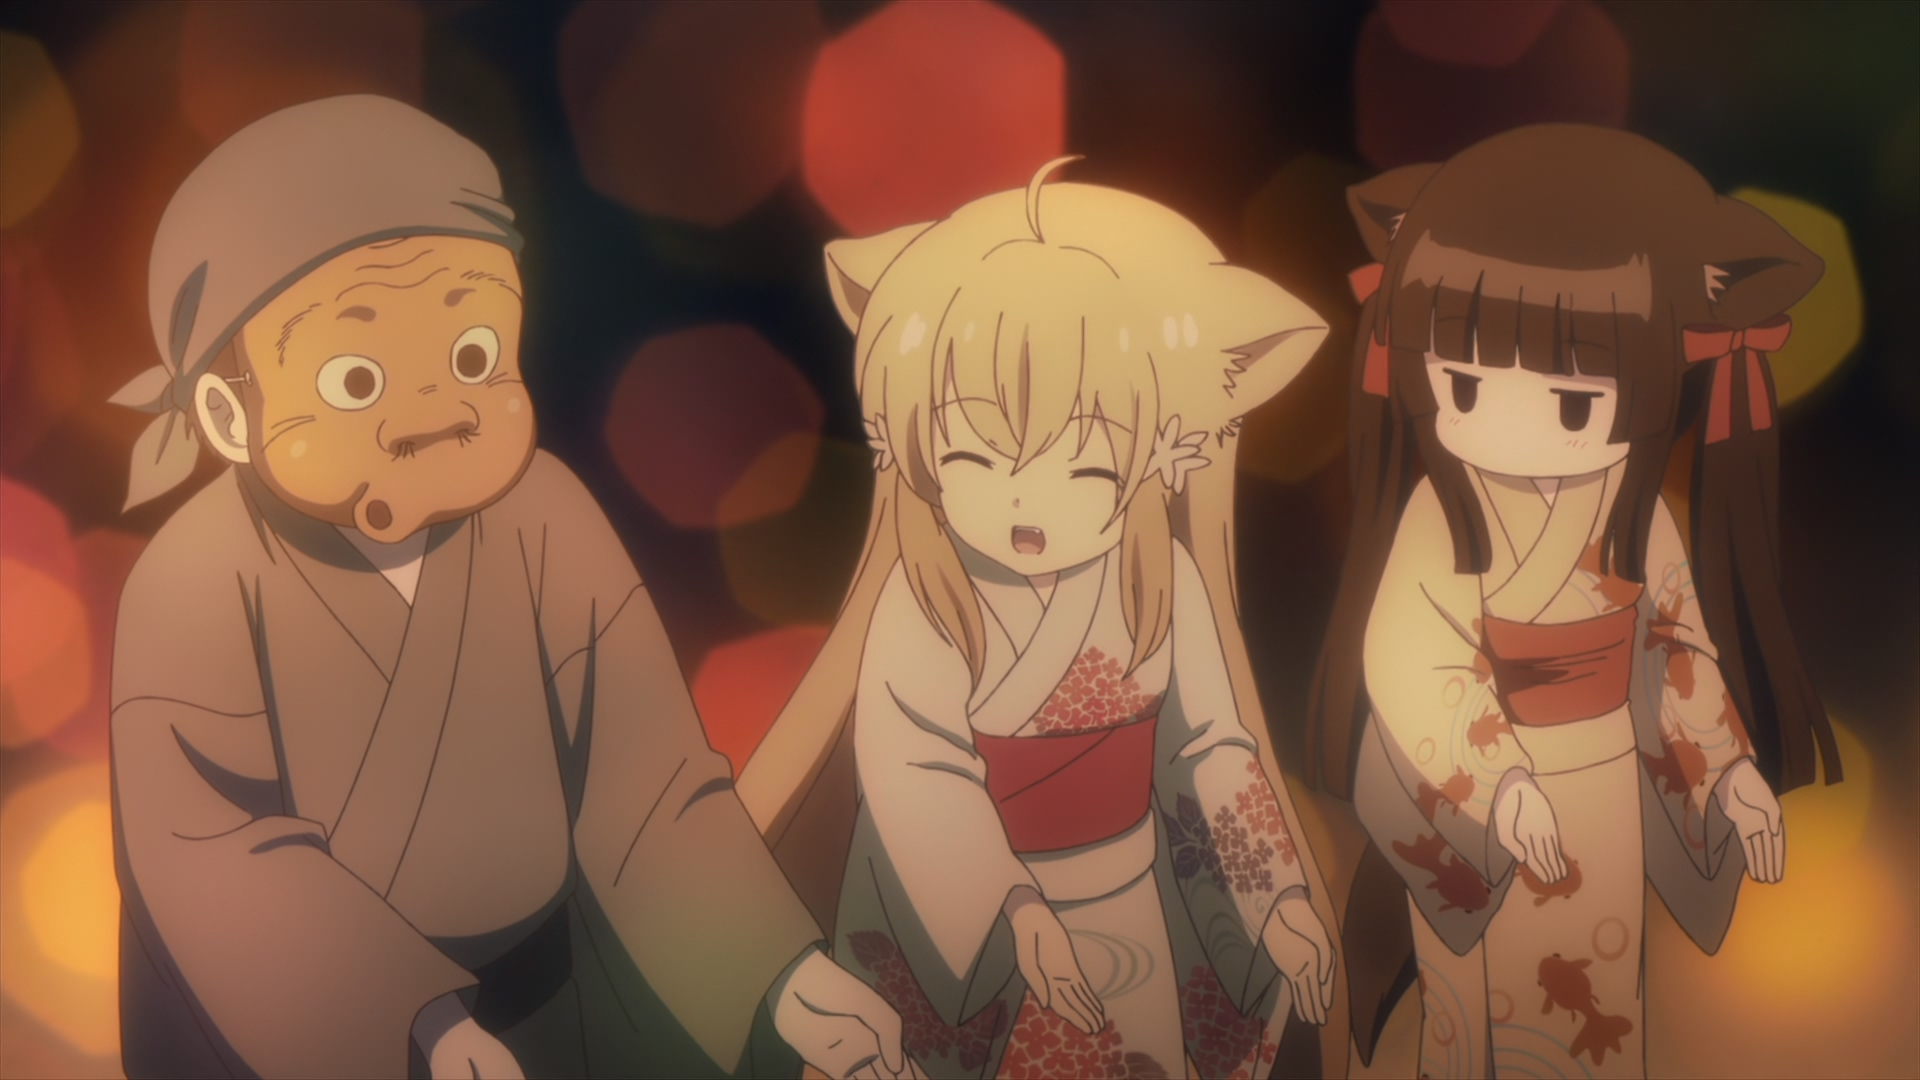其他: (109, 94, 920, 1080)
柚: (736, 157, 1346, 1080)
樱: (1302, 123, 1842, 1080)
